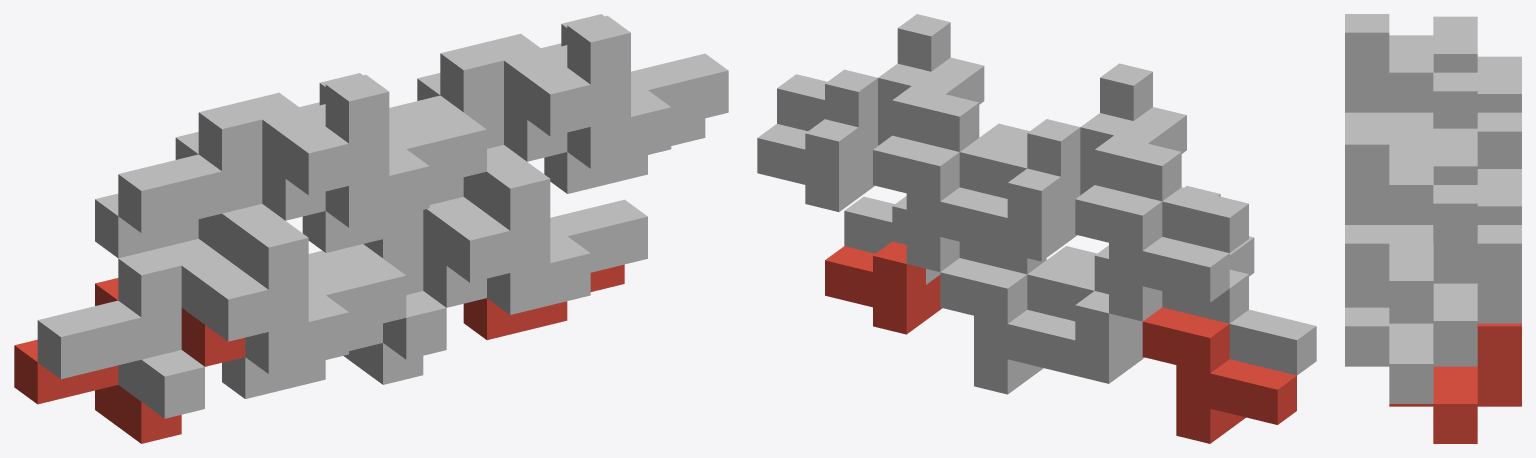
The model's file is tiling.obj.
3 renders of one model, left to right at view 1: azimuth 30°, elevation 25°; view 2: azimuth 150°, elevation 25°; view 3: azimuth 270°, elevation 25°, orthographic. The views are drawn at different scales.
Parts seen in each view (by area): view 1: copy_1_domain_2, copy_1_domain_4, copy_2_domain_8, copy_2_domain_4, copy_2_domain_2, copy_2_domain_6, copy_1_domain_8, copy_1_domain_6, copy_1_domain_1, copy_1_domain_3, copy_1_domain_5, copy_2_domain_3 (+4 smaller); view 2: copy_1_domain_1, copy_1_domain_3, copy_1_domain_5, copy_1_domain_4, copy_1_domain_7, copy_1_domain_8, copy_2_domain_7, copy_2_domain_8, copy_1_domain_2, copy_2_domain_5, copy_2_domain_3, copy_2_domain_4 (+4 smaller); view 3: copy_2_domain_8, copy_2_domain_7, copy_2_domain_4, copy_2_domain_6, copy_2_domain_5, copy_2_domain_3, copy_1_domain_8, copy_1_domain_4, copy_1_domain_3, copy_1_domain_7.
Boxes of the visible parts, x1,y1,x2,y2 form: copy_1_domain_2: (37, 238, 268, 418); copy_1_domain_4: (118, 92, 348, 272); copy_2_domain_8: (561, 14, 728, 168); copy_2_domain_4: (319, 73, 486, 227); copy_2_domain_2: (245, 221, 406, 373); copy_2_domain_6: (487, 162, 647, 314); copy_1_domain_8: (389, 33, 590, 213); copy_1_domain_6: (308, 197, 510, 359); copy_1_domain_1: (14, 278, 245, 443); copy_1_domain_3: (95, 132, 325, 258); copy_1_domain_5: (343, 249, 486, 384); copy_2_domain_3: (299, 102, 463, 252); copy_1_domain_1: (1142, 307, 1296, 443); copy_1_domain_3: (1075, 185, 1229, 321); copy_1_domain_5: (940, 258, 1075, 394); copy_1_domain_4: (1094, 107, 1248, 252); copy_1_domain_7: (873, 135, 1007, 271); copy_1_domain_8: (892, 57, 1027, 198); copy_2_domain_7: (757, 63, 930, 211); copy_2_domain_8: (777, 14, 950, 162); copy_1_domain_2: (1162, 236, 1316, 375); copy_2_domain_5: (825, 241, 942, 334); copy_2_domain_3: (1007, 113, 1133, 261); copy_2_domain_4: (979, 63, 1152, 211); copy_2_domain_8: (1345, 126, 1477, 320); copy_2_domain_7: (1389, 166, 1521, 360); copy_2_domain_4: (1345, 14, 1477, 147); copy_2_domain_6: (1345, 283, 1477, 403); copy_2_domain_5: (1389, 323, 1521, 443); copy_2_domain_3: (1389, 54, 1521, 168); copy_1_domain_8: (1389, 128, 1477, 184); copy_1_domain_4: (1389, 16, 1477, 72); copy_1_domain_3: (1477, 56, 1521, 112); copy_1_domain_7: (1477, 169, 1521, 224).
Bounding box in the file's own units: 16 × 8 × 4.
